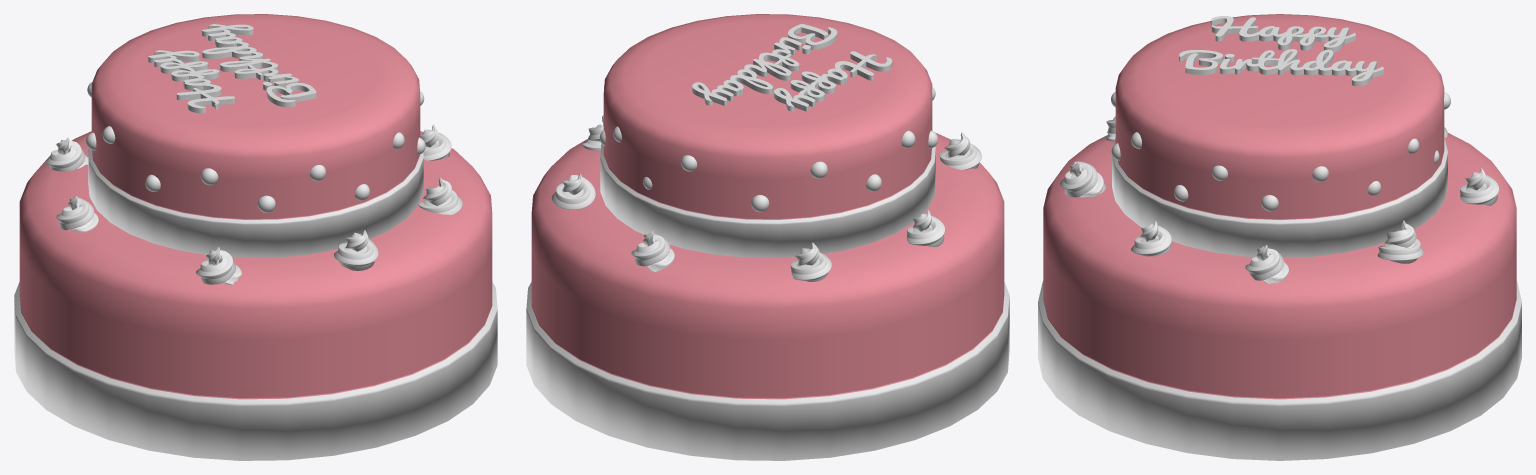
Rendered from cake3d.glb.
3 views of the same model, side by side, from view 1: azimuth 30°, elevation 25°; view 2: azimuth 150°, elevation 25°; view 3: azimuth 270°, elevation 25° (orthographic).
Parts seen in each view (by area): view 1: Cake layer 1.001, Cake layer 1, Text, Spiral.003, Spiral.007, Spiral.004, Spiral.005, Spiral.008, Spiral.000; view 2: Cake layer 1.001, Cake layer 1, Text, Spiral.006, Spiral.002, Spiral.008, Spiral.007, Spiral.004; view 3: Cake layer 1.001, Cake layer 1, Text, Spiral.006, Spiral.003, Spiral.000, Spiral.002, Spiral.005.
Part boxes in pixels (x1,y1,x2,y2): Cake layer 1.001: [14, 131, 497, 460]; Cake layer 1: [88, 14, 423, 257]; Text: [148, 24, 316, 113]; Spiral.003: [334, 230, 378, 270]; Spiral.007: [196, 247, 241, 284]; Spiral.004: [56, 196, 98, 232]; Spiral.005: [418, 177, 462, 214]; Spiral.008: [45, 137, 88, 171]; Spiral.000: [420, 125, 451, 160]; Cake layer 1.001: [526, 132, 1009, 460]; Cake layer 1: [600, 14, 935, 257]; Text: [692, 24, 892, 111]; Spiral.006: [551, 174, 595, 209]; Spiral.002: [631, 231, 674, 272]; Spiral.008: [790, 242, 831, 281]; Spiral.007: [939, 132, 981, 170]; Spiral.004: [906, 210, 945, 247]; Cake layer 1.001: [1038, 133, 1521, 460]; Cake layer 1: [1112, 14, 1447, 257]; Text: [1179, 16, 1383, 86]; Spiral.006: [1377, 220, 1423, 263]; Spiral.003: [1060, 161, 1106, 197]; Spiral.000: [1245, 245, 1288, 284]; Spiral.002: [1460, 168, 1499, 205]; Spiral.005: [1131, 221, 1171, 256].
Size of the model in its own units: 8.93 by 6.08 by 8.93.
